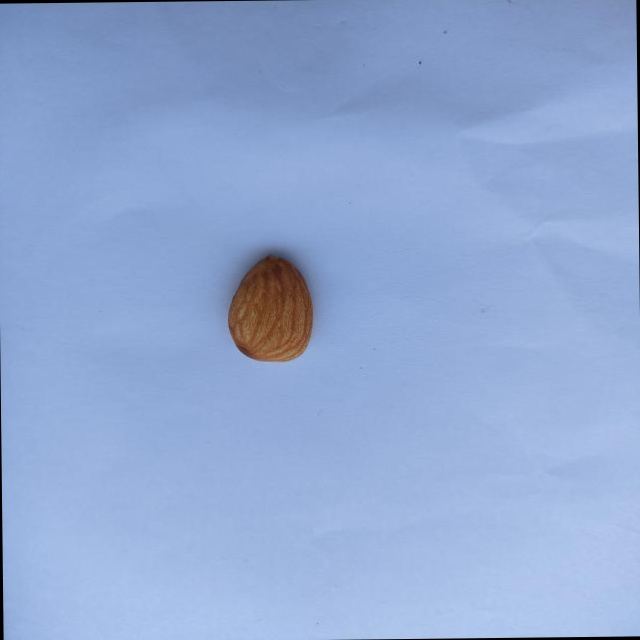grade1: (221, 247, 324, 369)
